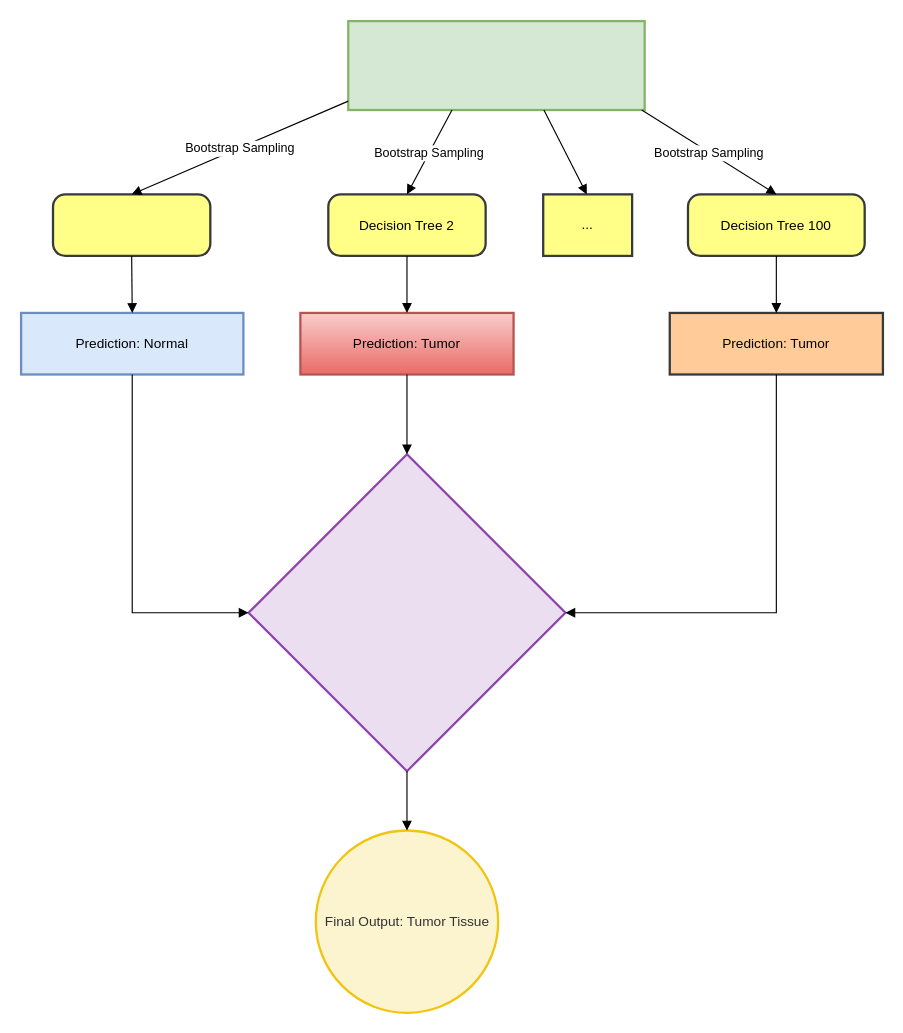
This 903x1033 diagram has some shape labels left out. Each missing label, with the centre of its shape:
"Decision Tree 1" belongs at (x=131, y=224).
"Majority Voting / Aggregation" belongs at (x=406, y=612).
"Standardized Gene Expression Data" belongs at (x=496, y=65).
